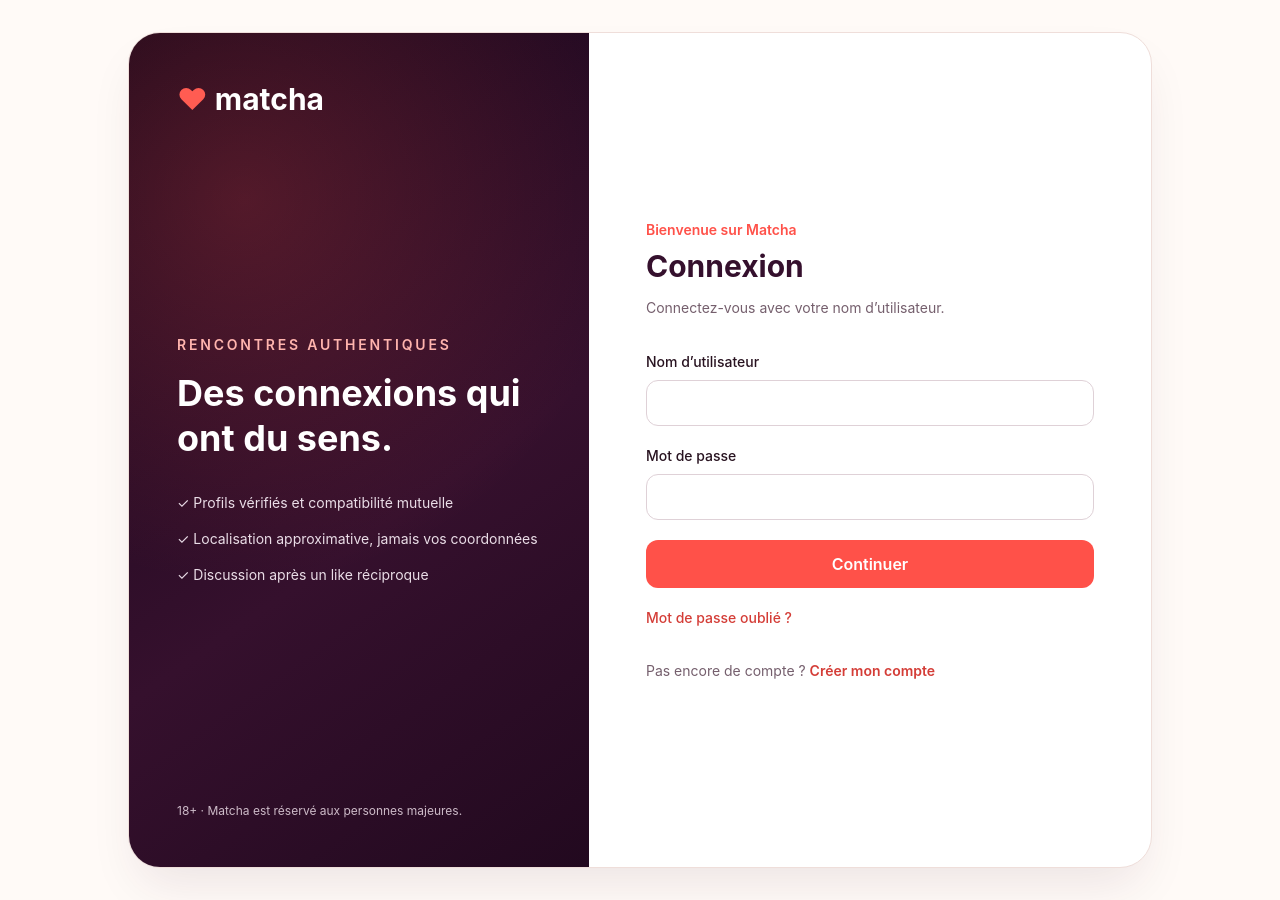
Scenario: authentication experience › navigates to the complete mandatory registration form
Click the button "Créer mon compte" at (872, 670), box [810,660,935,680]
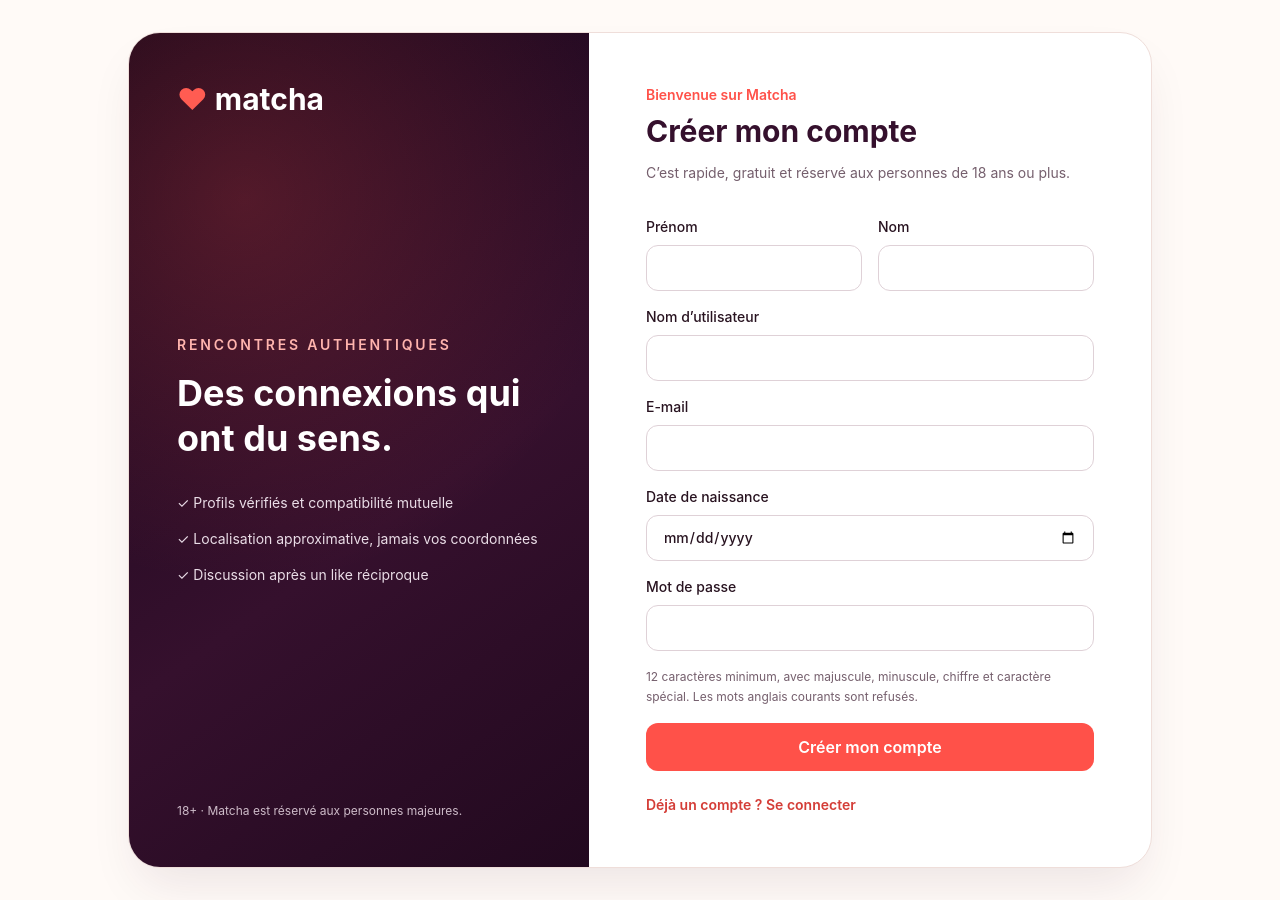
Expected: the heading "Créer mon compte" is shown, [646,112,917,148]
